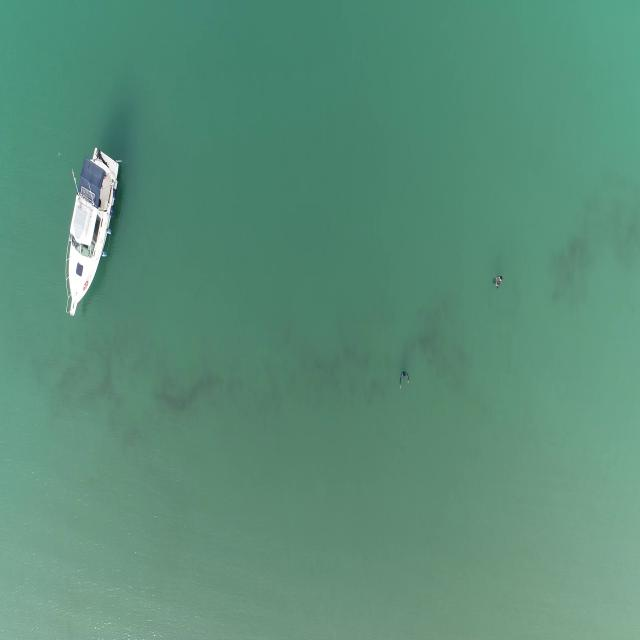boat: (60, 146, 121, 320)
person: (397, 369, 411, 391), (491, 271, 503, 295)
